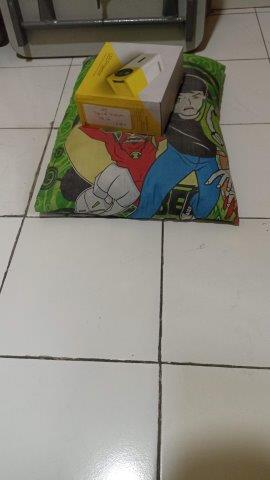kardus: (76, 42, 182, 135)
